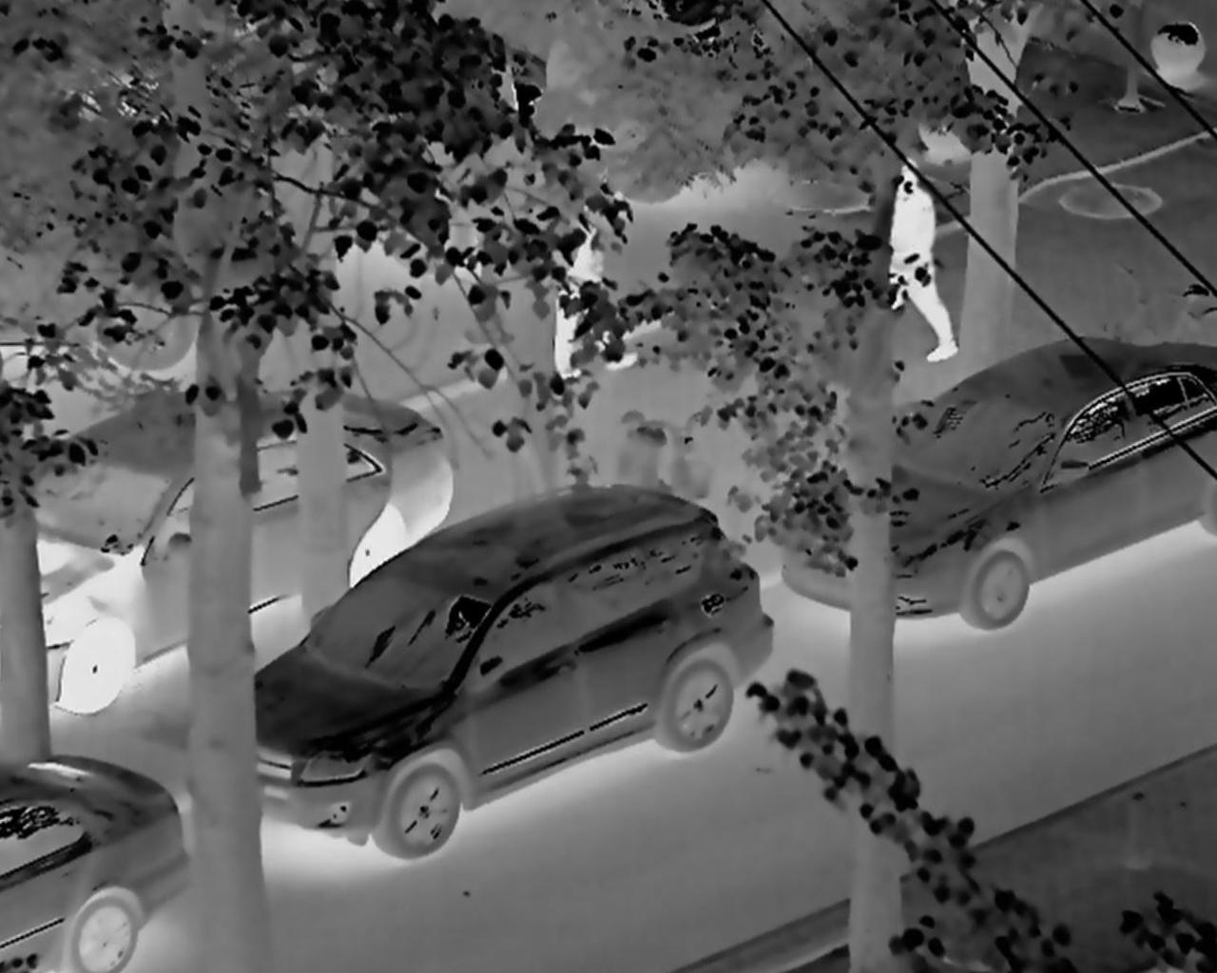person: (552, 180, 633, 391), (884, 151, 957, 370)
